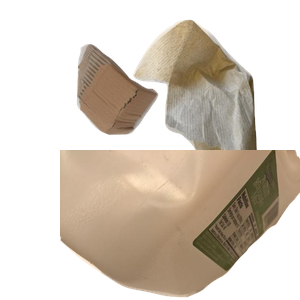cardboard: (74, 42, 225, 170)
glass: (73, 153, 284, 300)
plastic: (60, 150, 300, 300)
trash: (131, 17, 300, 197)
